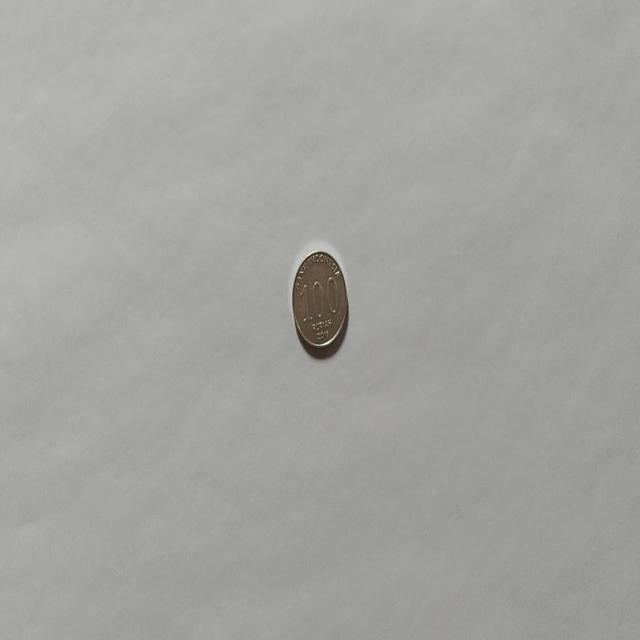seratus rupiah: (291, 248, 348, 352)
